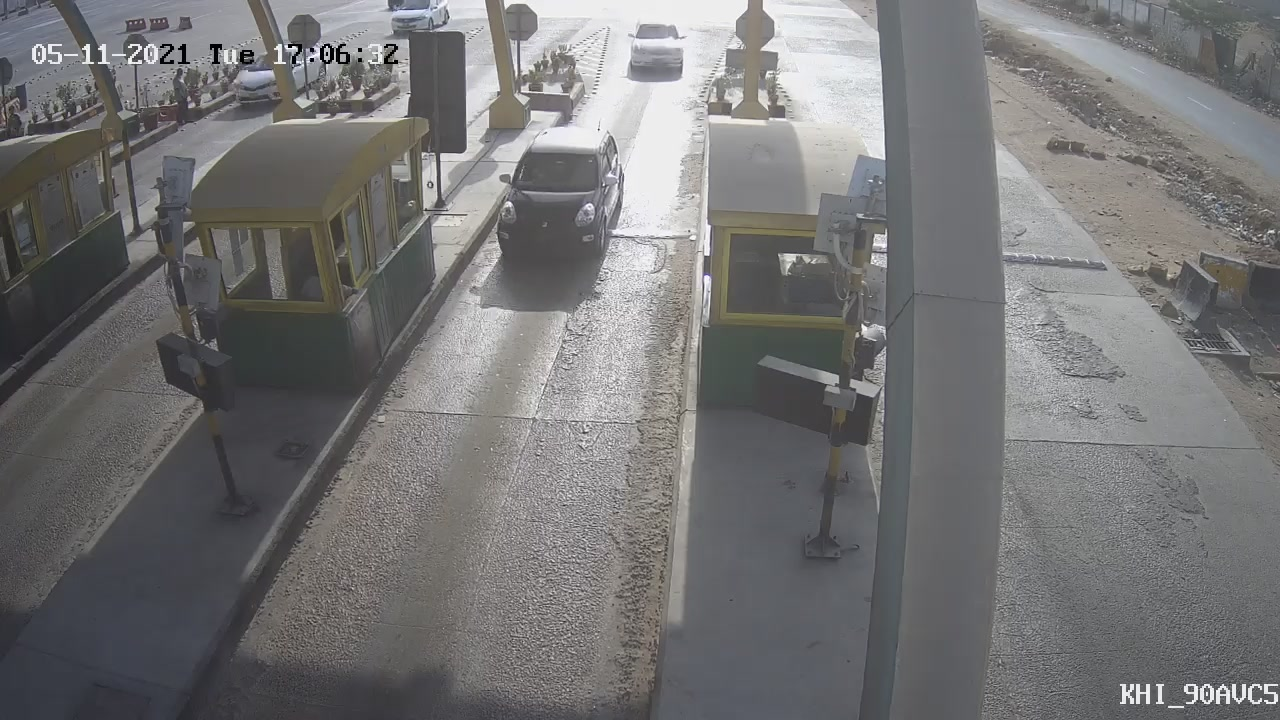F1: (474, 107, 652, 279)
